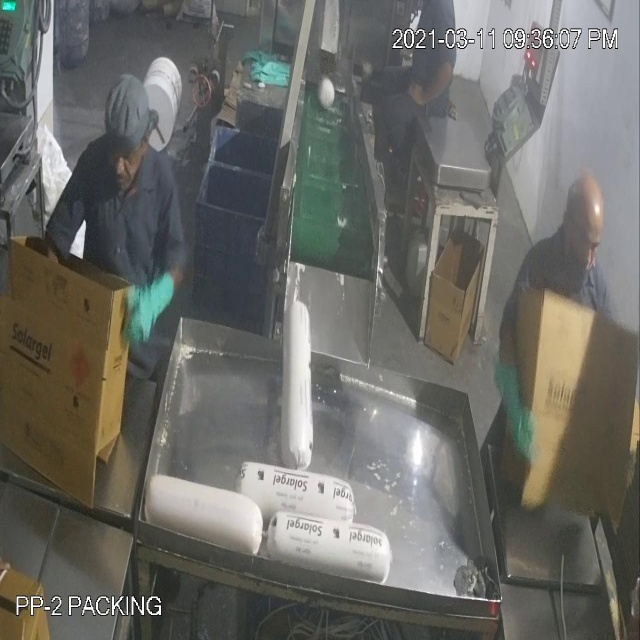Guantes: (490, 332, 543, 469), (116, 251, 180, 363)
Sin_guantes: (406, 56, 459, 120)
